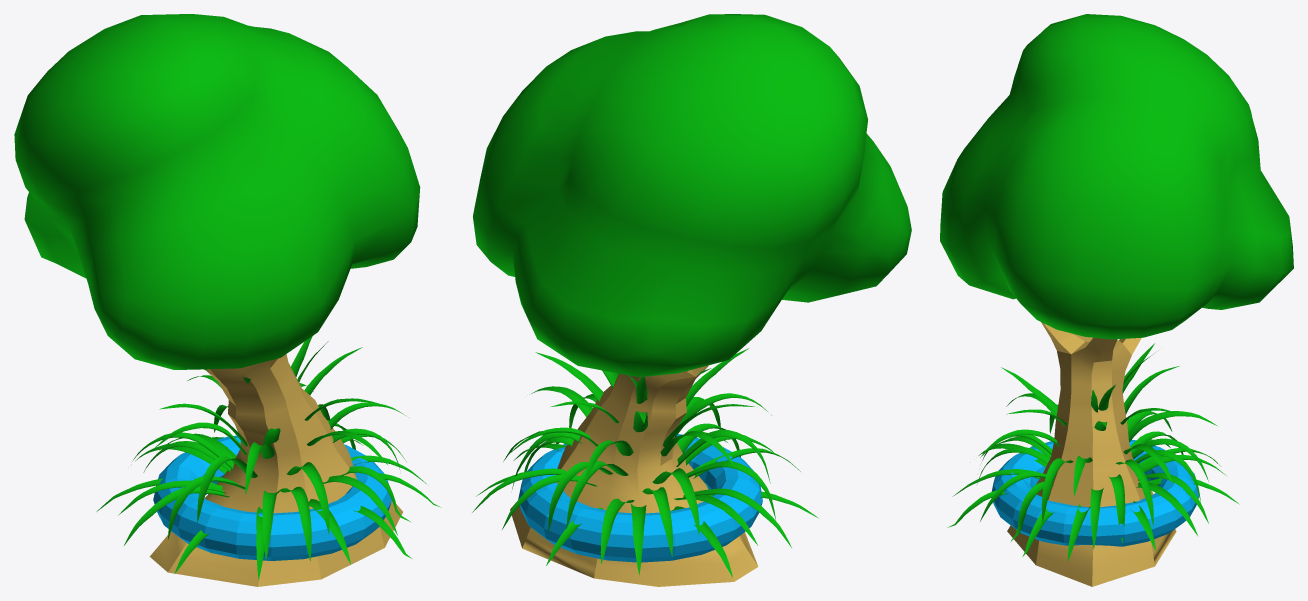
The model's file is polytests.fbx.
3 renders of one model, left to right at view 1: azimuth 30°, elevation 25°; view 2: azimuth 150°, elevation 25°; view 3: azimuth 270°, elevation 25°, orthographic. The views are drawn at different scales.
Visible parts, largest first — view 1: 1000-poly-tree, 10000-poly-plant, 500-poly-Torus; view 2: 1000-poly-tree, 10000-poly-plant, 500-poly-Torus; view 3: 1000-poly-tree, 10000-poly-plant, 500-poly-Torus.
Boxes of the visible parts, bbox=[...] form: 1000-poly-tree: bbox=[14, 14, 420, 586]; 10000-poly-plant: bbox=[96, 336, 441, 579]; 500-poly-Torus: bbox=[153, 435, 391, 560]; 1000-poly-tree: bbox=[473, 14, 911, 586]; 10000-poly-plant: bbox=[472, 348, 817, 577]; 500-poly-Torus: bbox=[518, 434, 762, 562]; 1000-poly-tree: bbox=[940, 14, 1293, 586]; 10000-poly-plant: bbox=[947, 343, 1239, 561]; 500-poly-Torus: bbox=[991, 439, 1198, 546].
Size of the model in its own units: 464 by 650 by 450.
